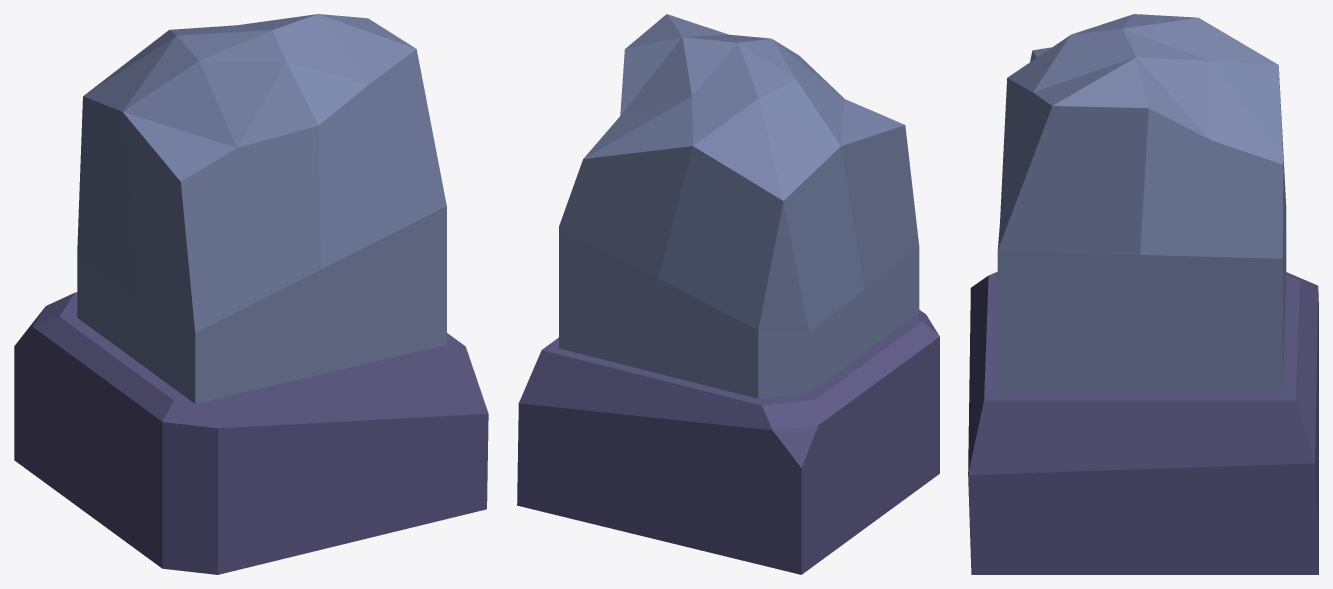
The model's file is Fence_Column_05.fbx.
3 views of the same model, side by side, from view 1: azimuth 30°, elevation 25°; view 2: azimuth 150°, elevation 25°; view 3: azimuth 270°, elevation 25° (orthographic). The views are drawn at different scales.
Parts seen in each view (by area): view 1: Fence_Column_05; view 2: Fence_Column_05; view 3: Fence_Column_05.
Boxes of the visible parts, x1,y1,x2,y2 form: Fence_Column_05: (14, 14, 488, 574); Fence_Column_05: (517, 14, 939, 574); Fence_Column_05: (968, 14, 1318, 574).
Size of the model in its own units: 78.67 by 114 by 76.06.
